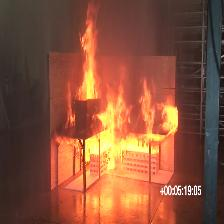fire: (56, 67, 179, 170), (78, 0, 99, 98)
